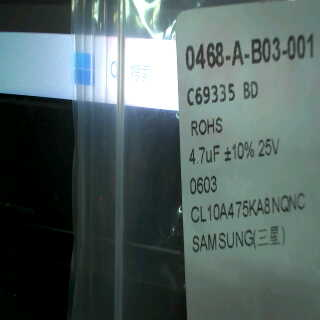4.7uF: (187, 142, 222, 169)
